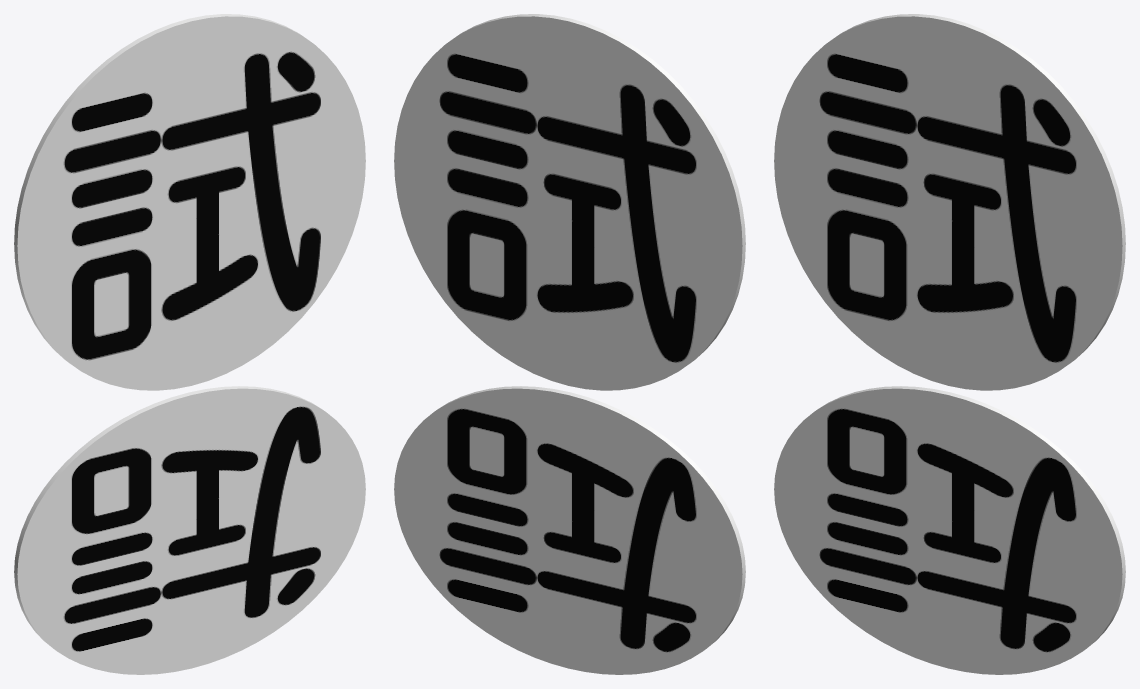
File: ICON_PRACTICE.glb
The picture shows the model from 3 angles, left to right: view 1: azimuth 30°, elevation 25°; view 2: azimuth 150°, elevation 25°; view 3: azimuth 330°, elevation 25°; orthographic projection.
Visible parts, largest first — view 1: obj1, Kanban_M; view 2: obj1, Kanban_M; view 3: obj1, Kanban_M.
Boxes of the visible parts, x1,y1,x2,y2 form: obj1: (14, 14, 365, 390); Kanban_M: (14, 386, 365, 674); obj1: (394, 14, 745, 390); Kanban_M: (394, 386, 745, 674); obj1: (774, 14, 1125, 390); Kanban_M: (774, 386, 1125, 674).
Size of the model in its own units: 6 by 10.65 by 0.1336.
Materials: 6 (6 with a texture image).
